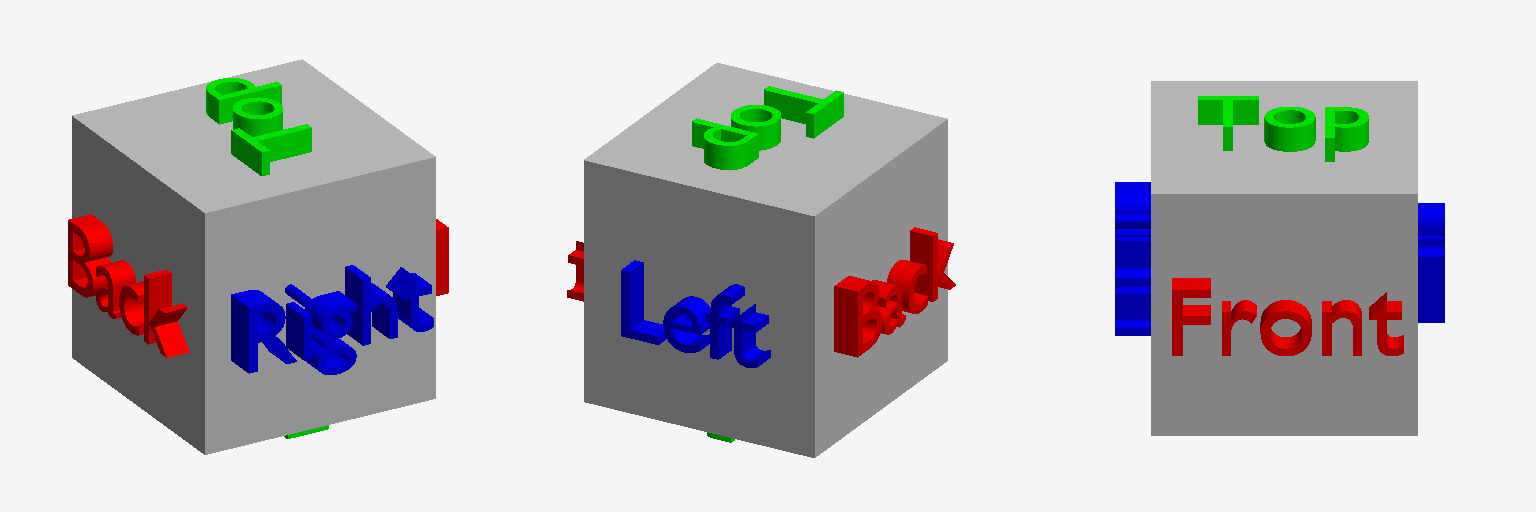
Rendered from cubeview.obj.
3 views of the same model, side by side, from view 1: azimuth 30°, elevation 25°; view 2: azimuth 150°, elevation 25°; view 3: azimuth 270°, elevation 25° (orthographic).
Parts seen in each view (by area): view 1: Cube, Right_Front.005, Back_Front.001, Top_Front.002, Front; view 2: Cube, Back_Front.001, Left_Front.004, Top_Front.002, Front; view 3: Cube, Front, Top_Front.002, Right_Front.005, Left_Front.004.
Boxes of the visible parts, x1=… form: Cube: x1=72, y1=59, x2=435, y2=454; Right_Front.005: x1=231, y1=265, x2=433, y2=374; Back_Front.001: x1=68, y1=214, x2=189, y2=357; Top_Front.002: x1=206, y1=78, x2=311, y2=175; Front: x1=436, y1=219, x2=448, y2=295; Cube: x1=584, y1=63, x2=947, y2=457; Back_Front.001: x1=834, y1=227, x2=955, y2=357; Left_Front.004: x1=621, y1=260, x2=770, y2=367; Top_Front.002: x1=692, y1=86, x2=843, y2=169; Front: x1=567, y1=241, x2=583, y2=301; Cube: x1=1151, y1=81, x2=1417, y2=435; Front: x1=1172, y1=278, x2=1403, y2=355; Top_Front.002: x1=1198, y1=96, x2=1368, y2=161; Right_Front.005: x1=1115, y1=182, x2=1150, y2=335; Left_Front.004: x1=1418, y1=203, x2=1444, y2=322.
Bounding box in the file's own units: 2.4 × 2.35 × 2.48.